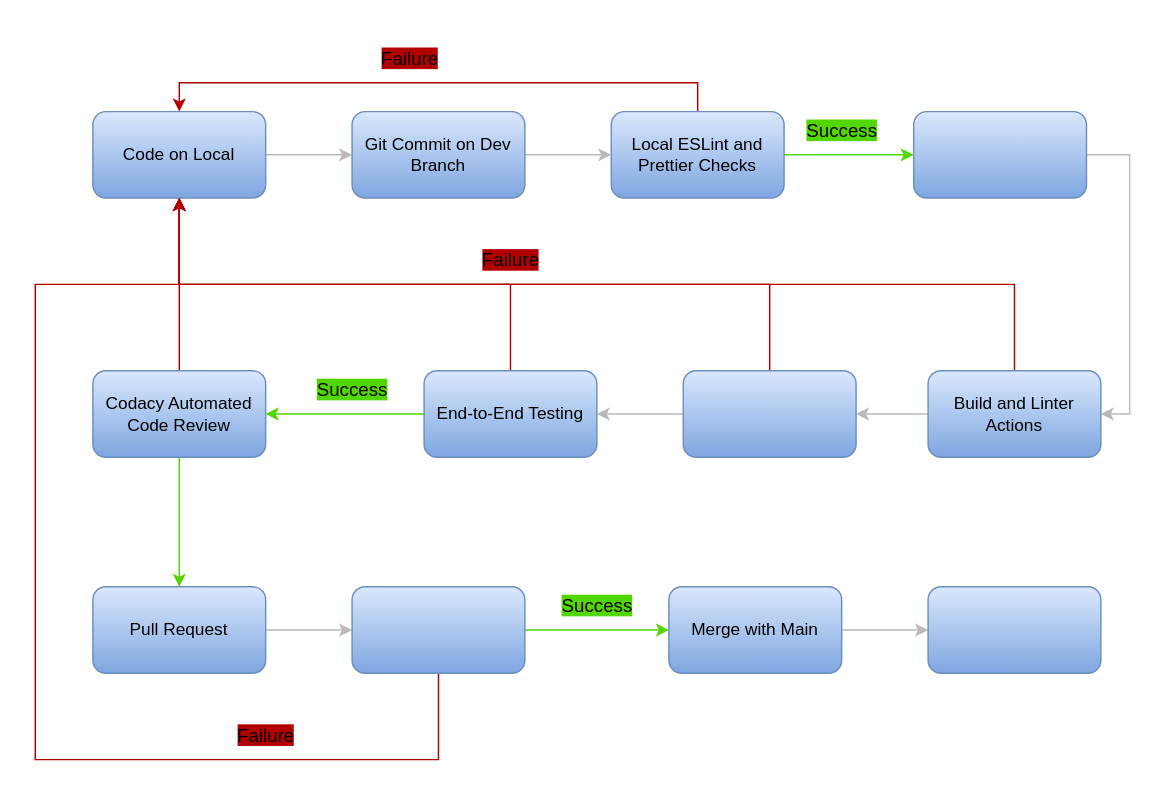
Image size: 1166x796. Some labels were removed from this diagram. Each missing label, with the centre of its shape:
"Human Code Review" goes at point (438, 629).
"Jest Unit Testing" goes at point (769, 413).
"JSDoc Generation" goes at point (1014, 629).
"Push to Branch" goes at point (999, 154).
